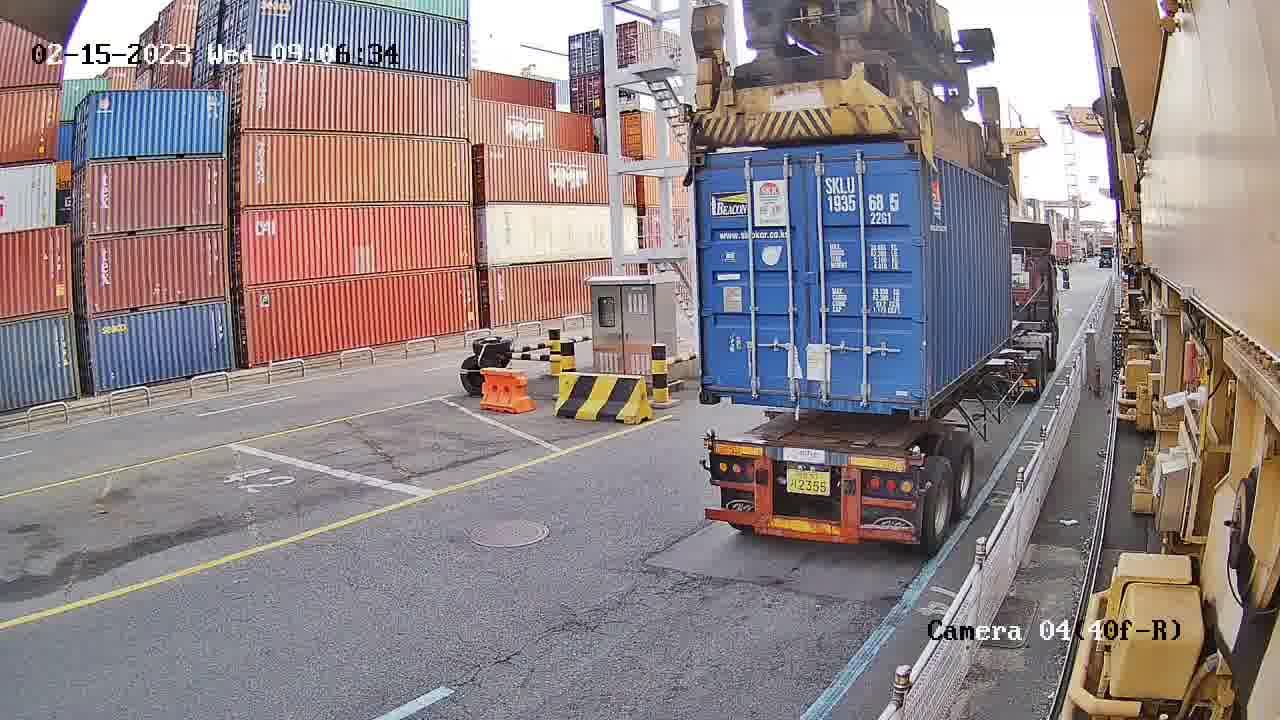Chassis: (718, 440, 905, 475)
Cone: (905, 445, 924, 474), (701, 428, 715, 453)
Hole_L: (699, 374, 734, 405)
Hole_R: (890, 385, 927, 419)
Tire: (927, 462, 955, 546), (954, 437, 976, 514)
